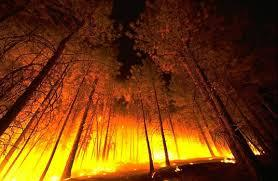fire: (1, 120, 273, 178)
